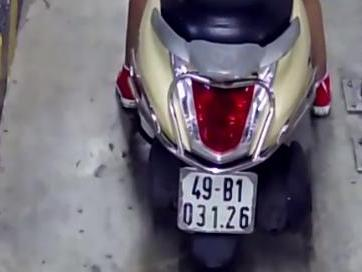num_plate: (177, 166, 258, 237)
